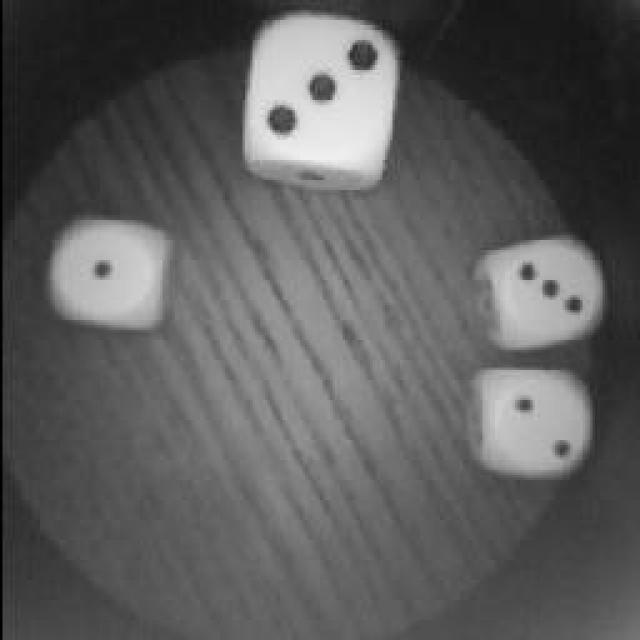dice_1: (42, 215, 178, 340)
dice_2: (475, 368, 597, 482)
dice_3: (235, 18, 403, 190), (488, 230, 612, 348)
